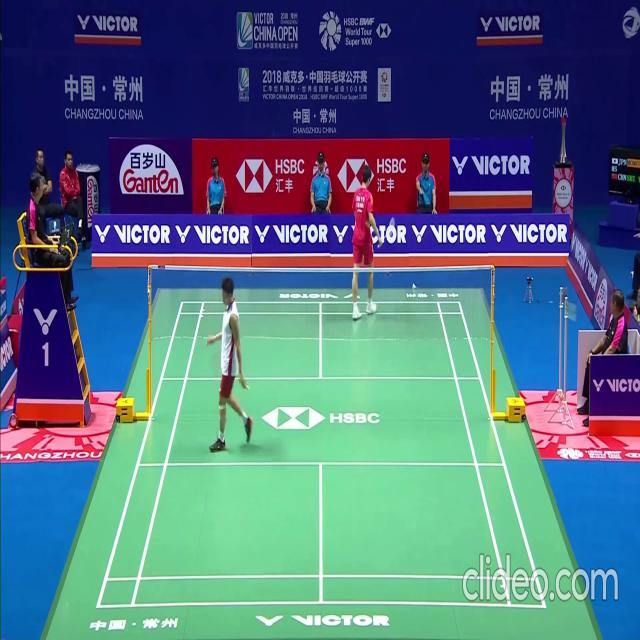Shuttlecock: (412, 282, 417, 289)
